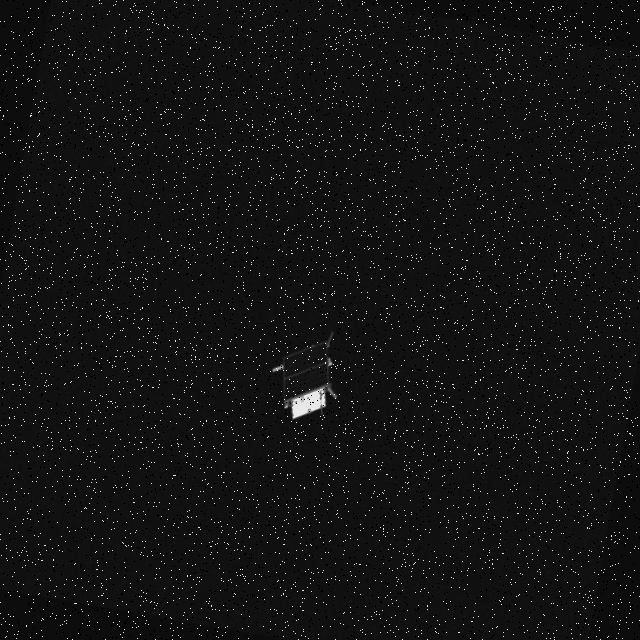medium_debris: (254, 348, 354, 424)
